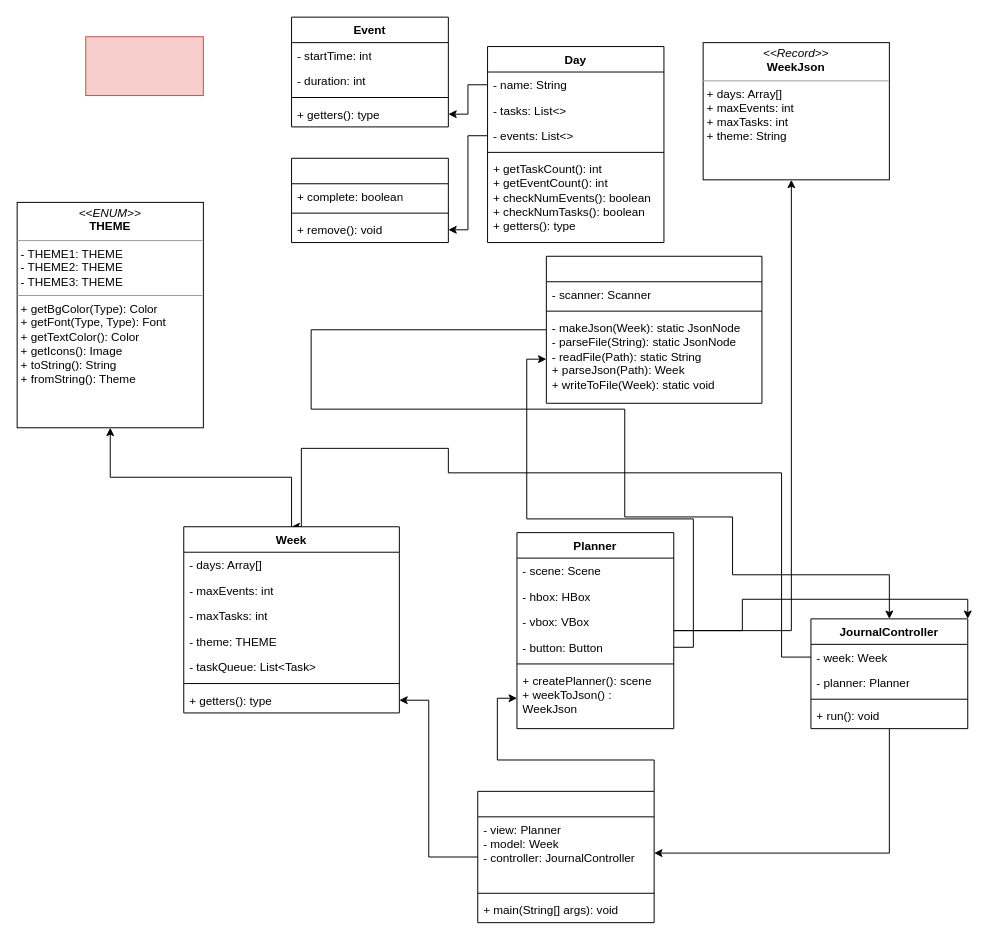
This 993x943 diagram has some shape labels left out. Each missing label, with the box of its shape:
Driver: (477, 790, 654, 923)
FileReader: (545, 255, 762, 403)
Task: (291, 157, 448, 243)
Using the THEME & Task Overview Headliner: (85, 36, 203, 96)
